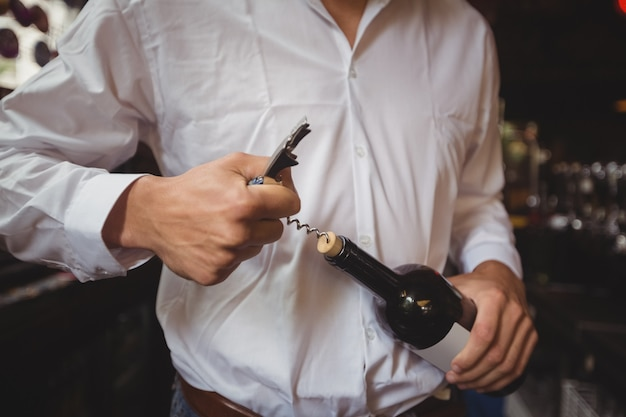alcohol: (316, 233, 533, 395)
